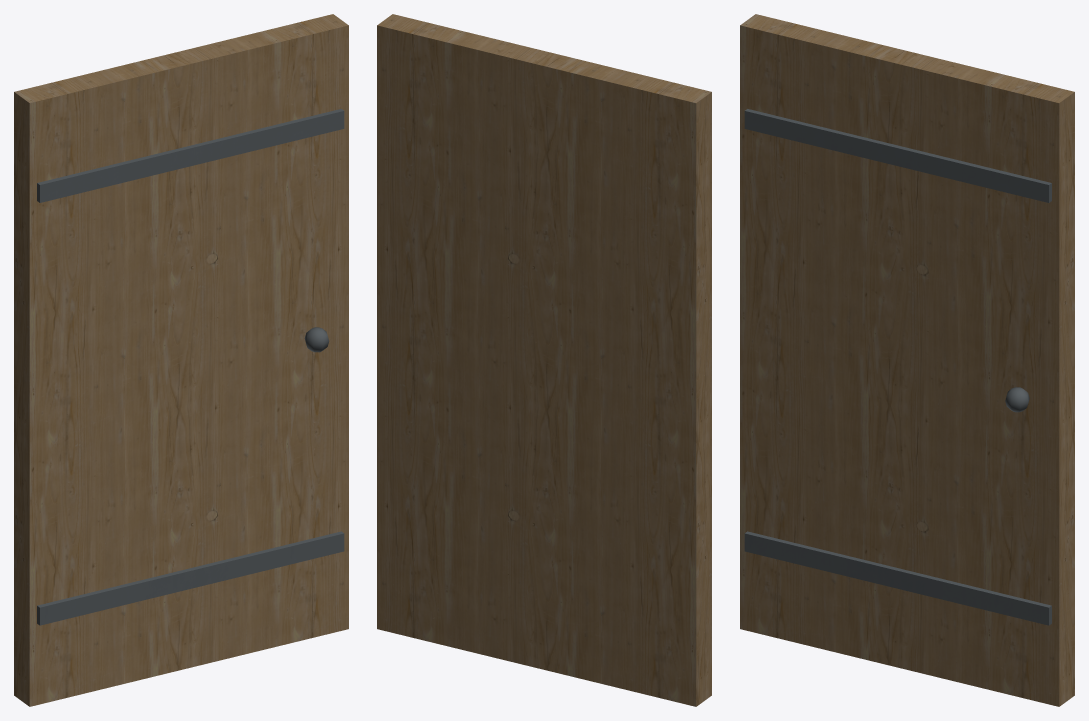
The model's file is build_door_leaf.glb.
3 renders of one model, left to right at view 1: azimuth 30°, elevation 25°; view 2: azimuth 150°, elevation 25°; view 3: azimuth 330°, elevation 25°, orthographic.
Parts seen in each view (by area): view 1: door_leaf; view 2: door_leaf; view 3: door_leaf.
Boxes of the visible parts, left/top/right/bottom form: door_leaf: left=14, top=14, right=348, bottom=706; door_leaf: left=377, top=14, right=711, bottom=706; door_leaf: left=740, top=14, right=1074, bottom=706.
Bounding box in the file's own units: 1.3 × 2.35 × 0.19.
2 materials, 2 textured.
